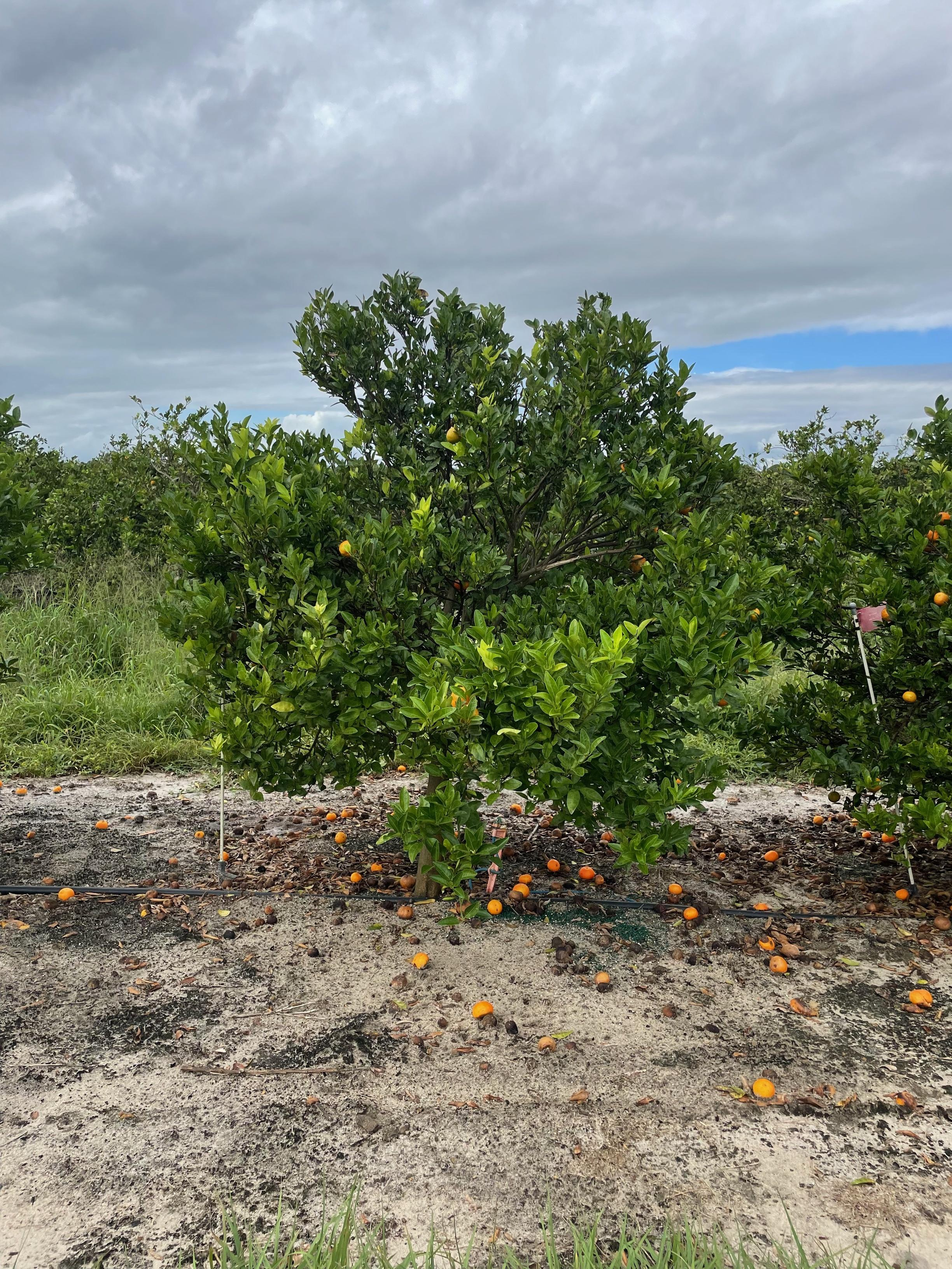fruit_on_ground: (443, 682, 476, 713), (626, 552, 649, 575), (336, 537, 360, 559), (444, 424, 465, 446), (879, 604, 900, 623), (931, 589, 951, 608), (452, 575, 473, 593), (863, 776, 884, 794), (923, 527, 942, 545), (900, 688, 919, 705), (745, 606, 762, 623), (935, 509, 951, 527), (676, 501, 694, 516), (826, 789, 842, 804), (716, 695, 730, 708)
fruit_on_tree: (907, 986, 934, 1008), (752, 1076, 776, 1100), (893, 1089, 918, 1110), (471, 1000, 495, 1019), (768, 955, 789, 974), (536, 1034, 557, 1052), (932, 914, 951, 932), (789, 995, 808, 1013), (410, 951, 430, 968), (485, 898, 503, 916), (511, 882, 531, 898), (682, 904, 700, 921), (398, 872, 417, 888), (396, 904, 415, 920), (593, 970, 611, 986), (758, 936, 777, 951), (506, 888, 524, 903), (57, 886, 75, 901), (578, 864, 594, 880), (667, 881, 684, 896), (894, 886, 910, 901), (544, 857, 560, 872), (517, 871, 534, 885), (762, 848, 779, 862), (880, 830, 896, 844), (508, 802, 523, 816), (369, 860, 384, 874), (592, 872, 607, 886), (334, 830, 349, 844), (266, 834, 282, 847), (501, 845, 516, 858), (601, 829, 615, 842), (349, 870, 363, 883), (340, 806, 355, 818), (754, 900, 770, 911), (312, 805, 325, 818), (551, 827, 565, 839), (859, 828, 873, 840), (14, 784, 28, 796), (94, 819, 108, 831), (324, 809, 338, 821), (710, 869, 725, 880), (726, 794, 740, 805), (716, 849, 728, 861), (220, 849, 232, 861), (263, 904, 275, 916), (822, 813, 835, 824), (812, 813, 825, 824), (221, 877, 233, 888), (539, 818, 551, 829), (254, 916, 266, 927), (139, 906, 150, 917), (542, 813, 554, 823), (193, 829, 205, 839), (168, 855, 179, 865), (396, 763, 407, 773), (52, 783, 63, 793), (122, 812, 134, 821), (674, 776, 684, 786), (26, 828, 36, 838), (533, 808, 544, 816)
